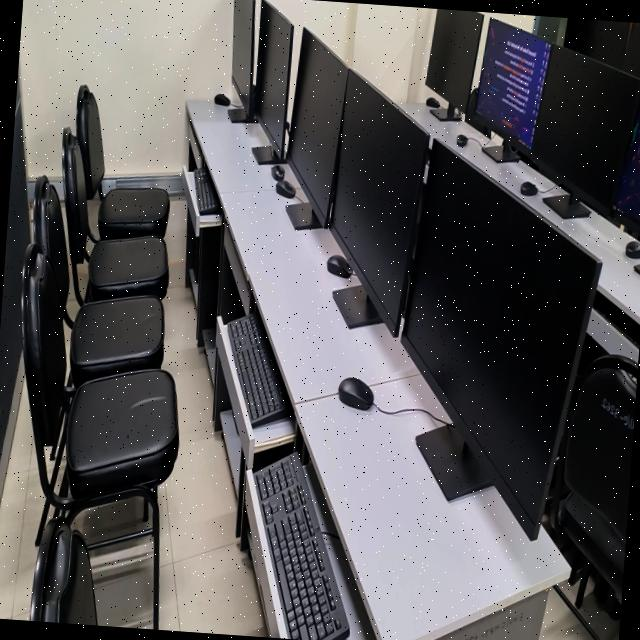Chair: (20, 243, 178, 629), (32, 175, 163, 385), (550, 353, 638, 605), (62, 129, 168, 302), (75, 84, 168, 238), (29, 516, 96, 625), (464, 86, 489, 136)
Keyboard: (250, 451, 348, 640), (227, 312, 289, 424), (193, 166, 219, 212)
Monitor: (401, 139, 600, 538), (330, 68, 429, 335), (528, 43, 640, 217), (285, 28, 347, 226), (474, 18, 550, 160), (251, 0, 292, 163), (424, 7, 482, 120), (612, 95, 640, 225), (563, 16, 628, 67), (229, 0, 254, 120), (621, 23, 640, 78)
Mouse: (337, 377, 372, 409), (326, 253, 352, 276), (275, 179, 294, 197), (624, 239, 640, 257), (519, 180, 536, 194), (270, 164, 283, 179), (213, 92, 229, 104), (425, 96, 439, 106), (456, 133, 467, 145)
